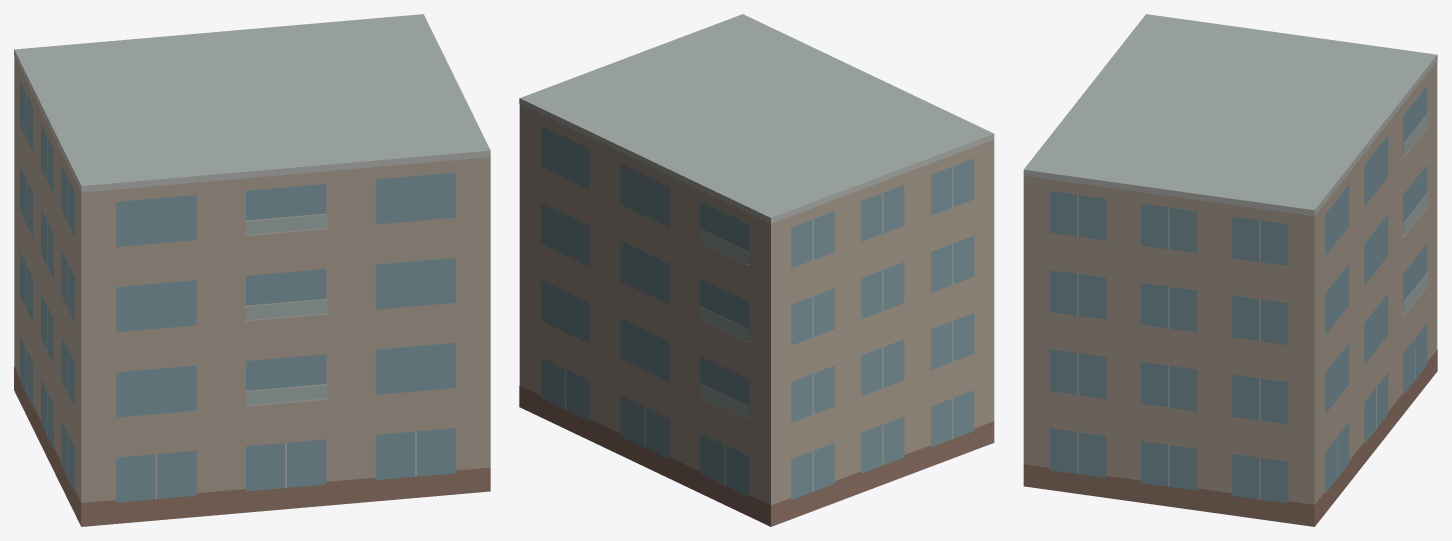
File: survey-upis-32885977.glb
The picture shows the model from 3 angles, left to right: view 1: azimuth 30°, elevation 25°; view 2: azimuth 150°, elevation 25°; view 3: azimuth 270°, elevation 25°; orthographic projection. The views are drawn at different scales.
Visible parts, largest first — view 1: survey-upis-32885977.tmp; view 2: survey-upis-32885977.tmp; view 3: survey-upis-32885977.tmp.
Part boxes in pixels (bbox=[...]): survey-upis-32885977.tmp: bbox=[14, 14, 490, 526]; survey-upis-32885977.tmp: bbox=[519, 14, 994, 526]; survey-upis-32885977.tmp: bbox=[1023, 14, 1437, 526].
Size of the model in its own units: 17.1 by 12.85 by 15.24.
